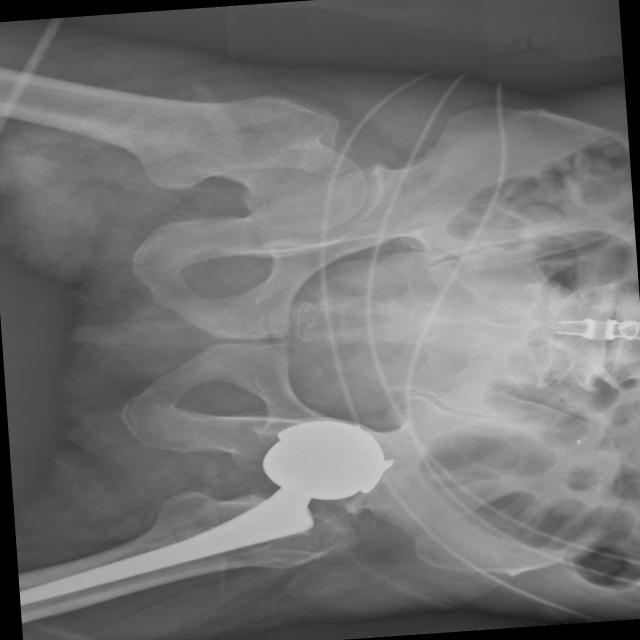normal-left: (17, 421, 385, 623)
normal-right: (9, 74, 366, 232)
